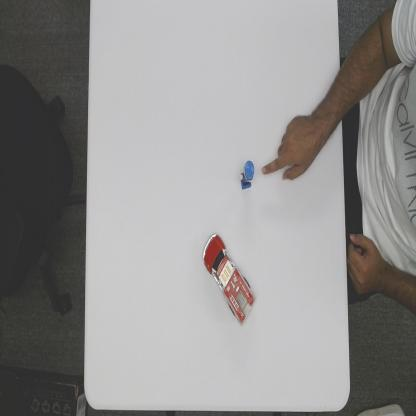Arm: (316, 72, 342, 162)
Firetruck: (202, 230, 256, 327)
Hand: (260, 115, 322, 180)
